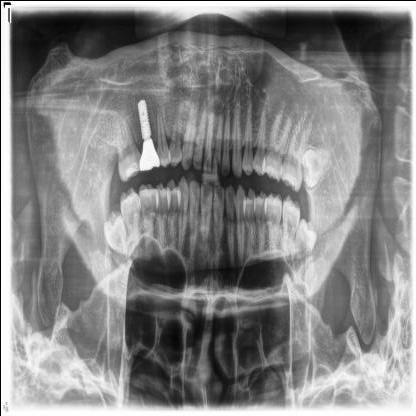ITI: (135, 94, 153, 139)
